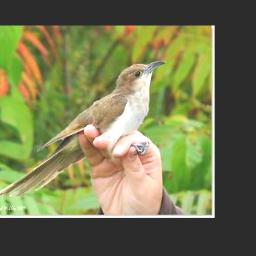Cuckoo: (0, 60, 166, 198)
